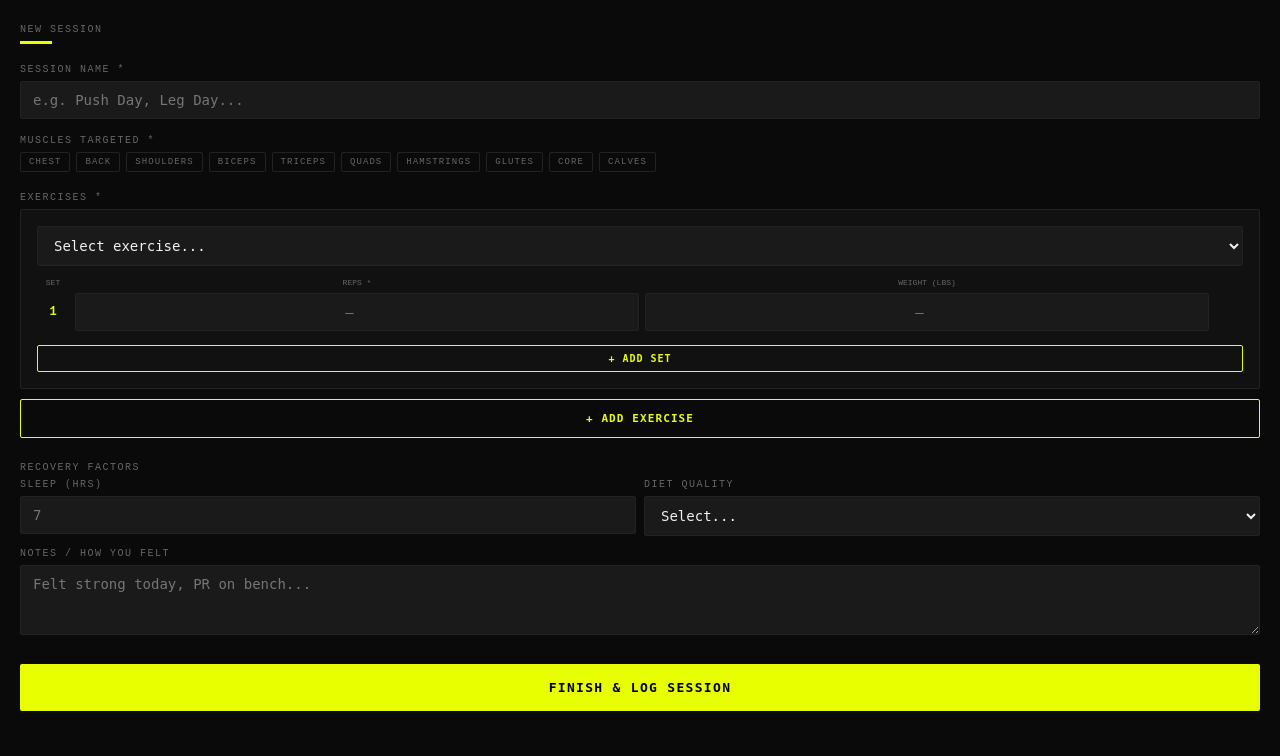
Test case: LogWorkout component › US-01: user can add an exercise
This screenshot has width=1280, height=756.
Click the button with test id "add-exercise" at (640, 418), box [20, 399, 1260, 438]
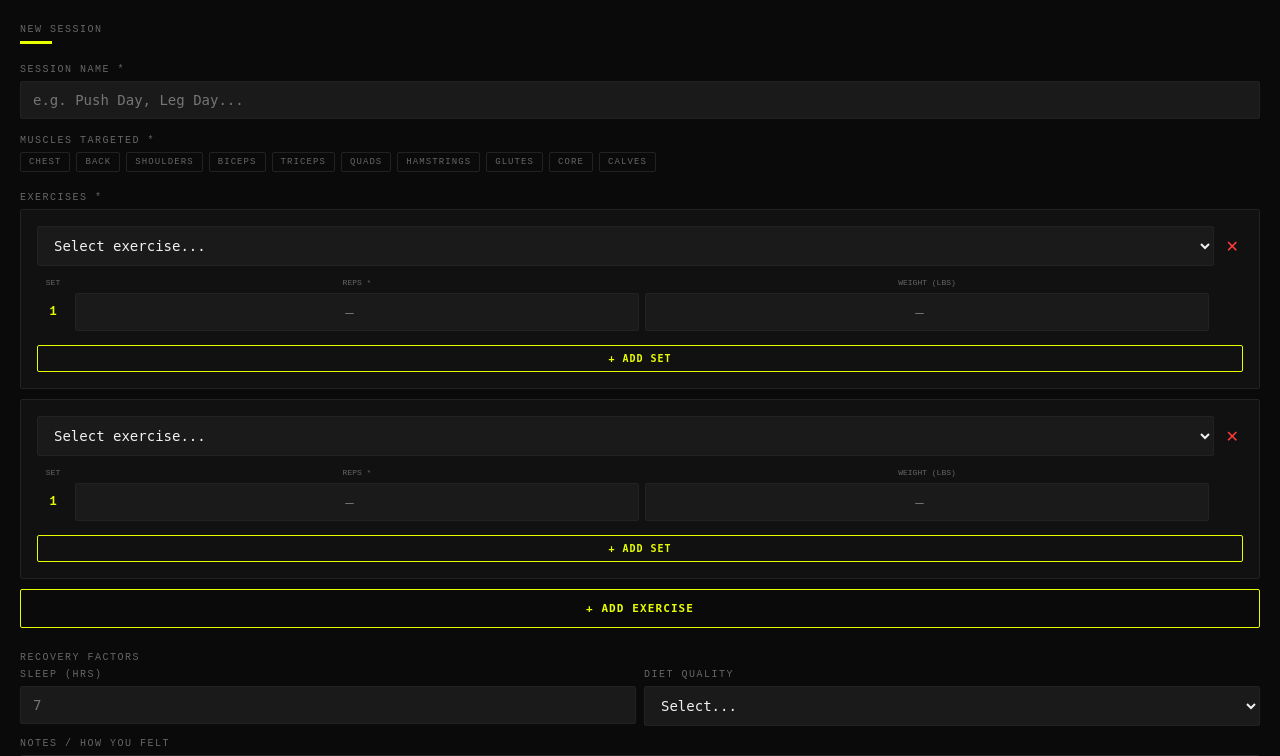
Now the element with test id "exercise-card-1" is shown, box [20, 399, 1260, 579]
